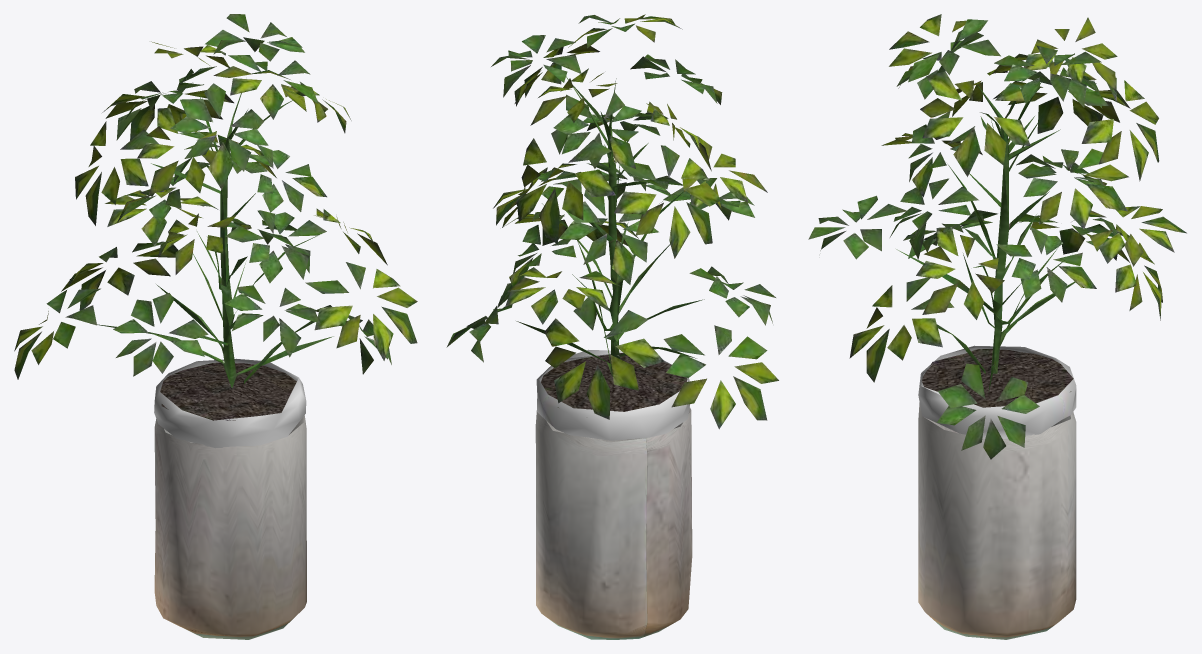
File: Plant0017.obj
3 renders of one model, left to right at view 1: azimuth 30°, elevation 25°; view 2: azimuth 150°, elevation 25°; view 3: azimuth 270°, elevation 25°, orthographic. The views are drawn at different scales.
Size of the model in its own units: 0.309 by 0.505 by 0.293.
1 material, 1 textured.
